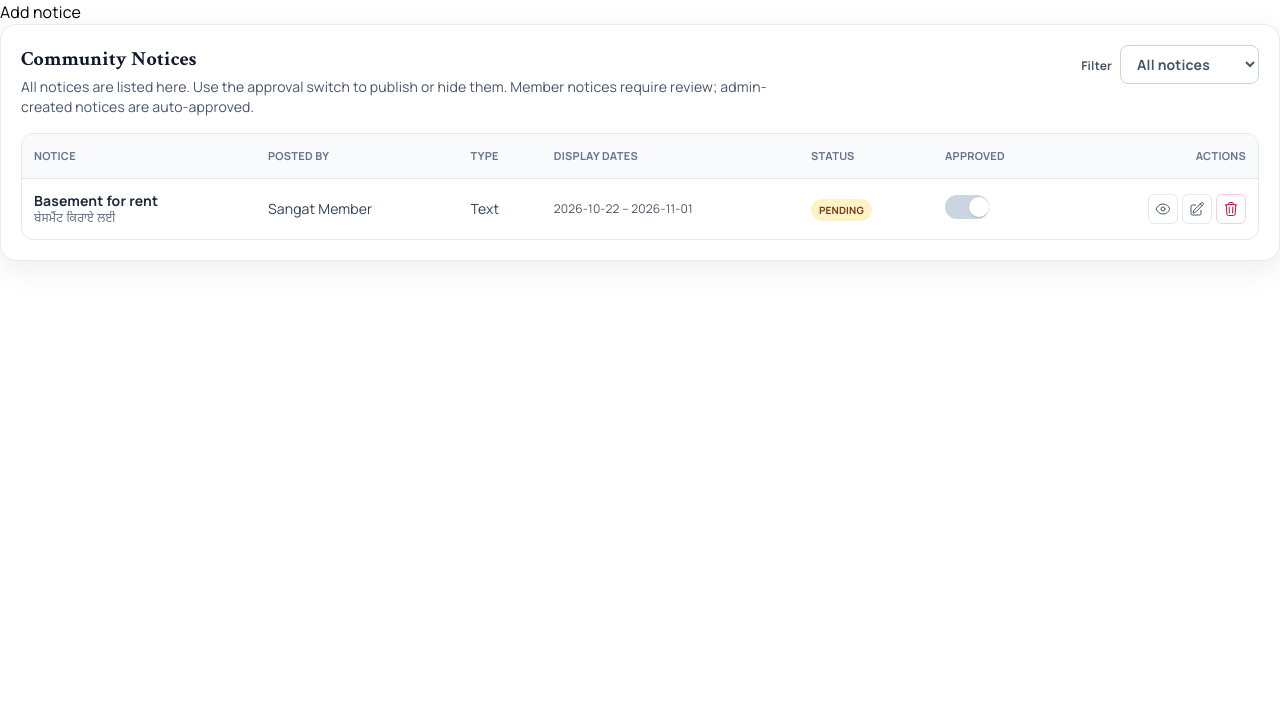
Test: delete confirmation blurs the background and supports cancel and confirm
The width and height of the screenshot is (1280, 720).
Click the button named "Delete Basement for rent": x=1231, y=209 [1216,194,1246,224]
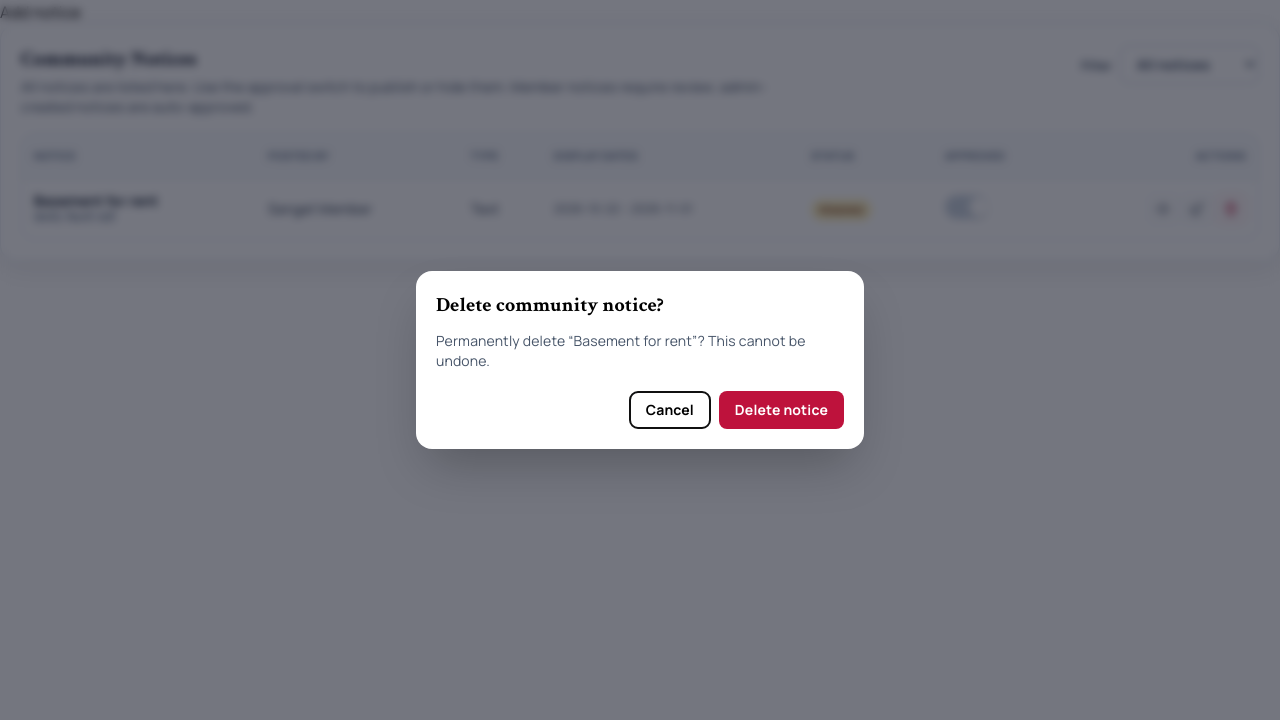
Click the button "Cancel": x=670, y=410 [629,391,711,429]
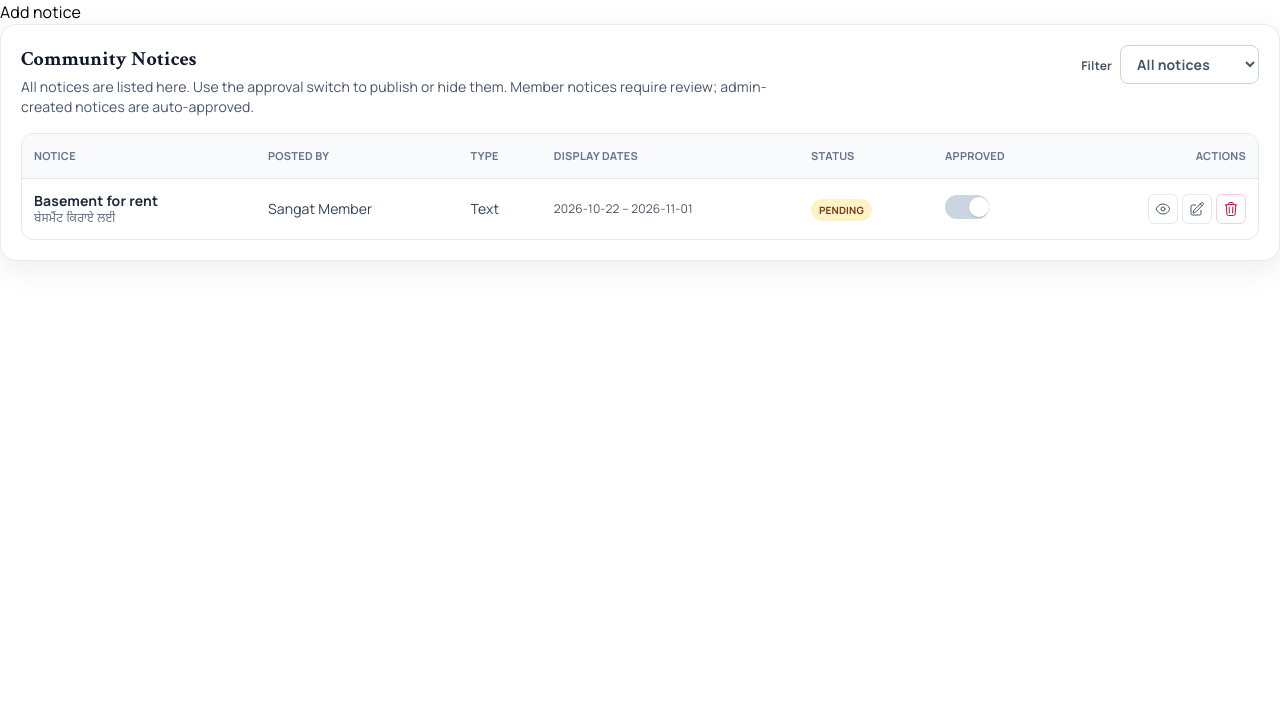
Now the dialog is gone
Click the button named "Delete Basement for rent": x=1231, y=209 [1216,194,1246,224]
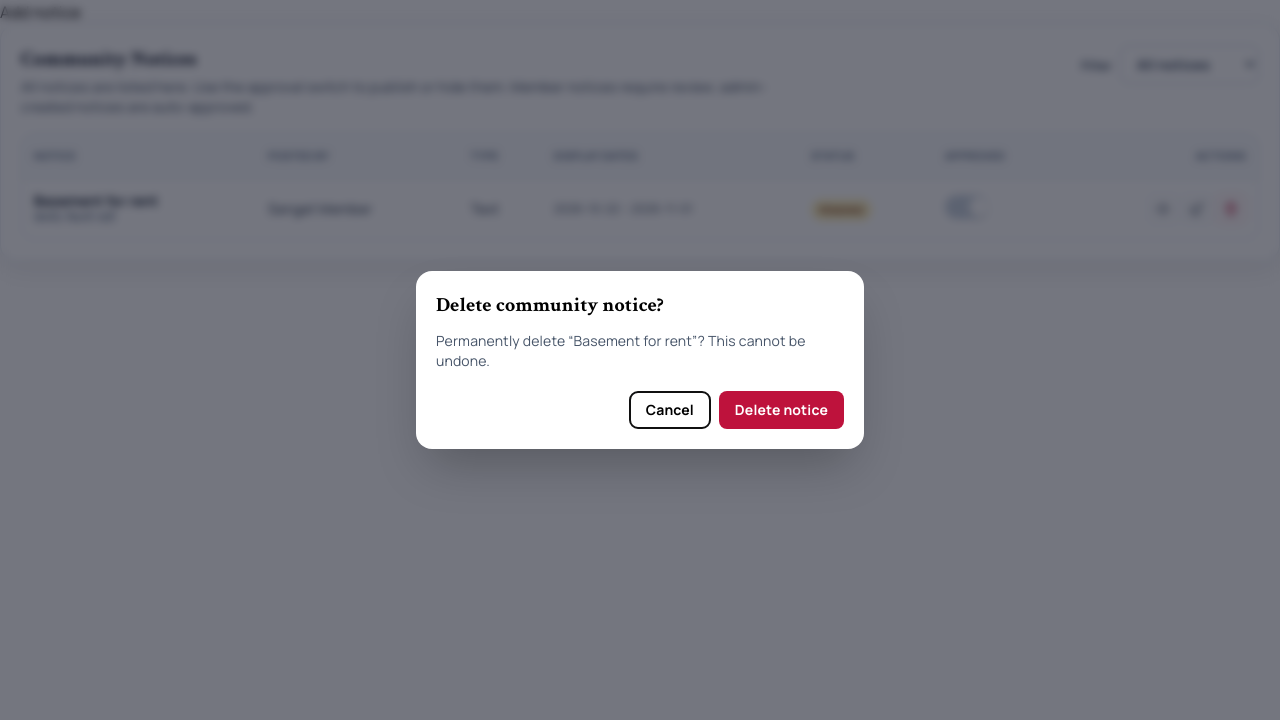
Click the button "Delete notice": x=781, y=410 [719,391,844,429]
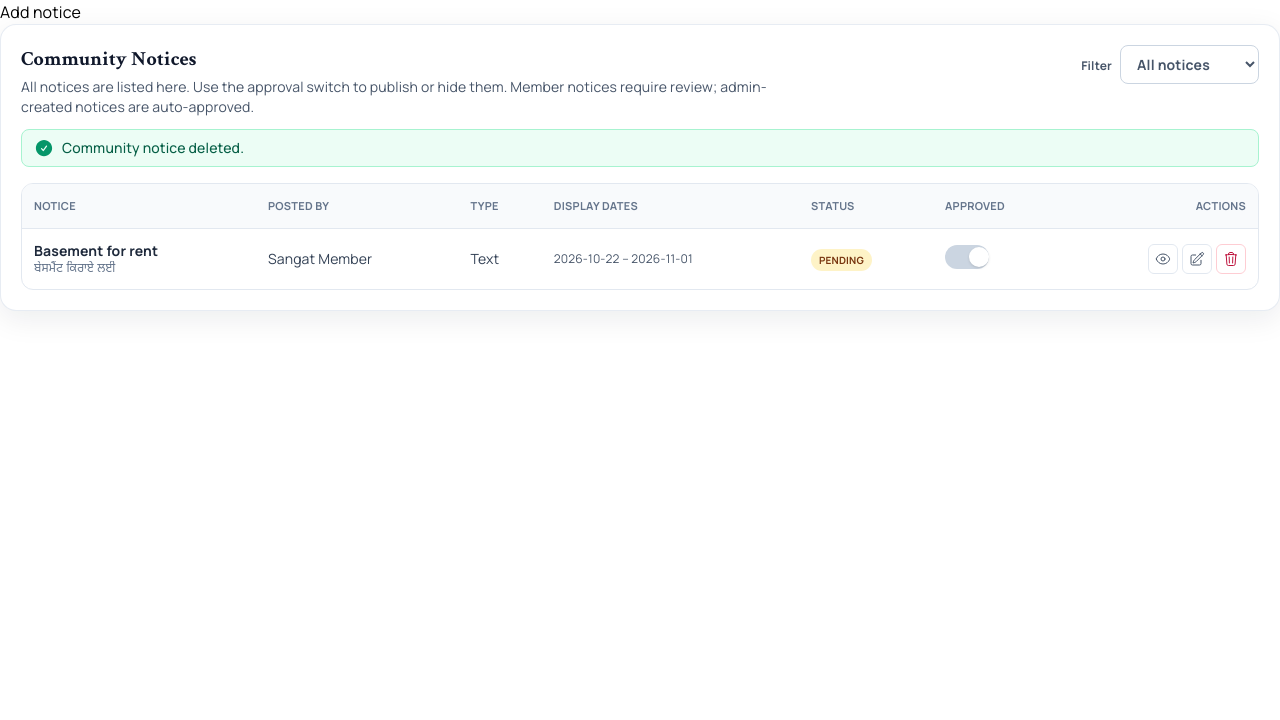
Now the text "Community notice deleted." is shown, box [62,138,244,158]
Now the dialog is gone
